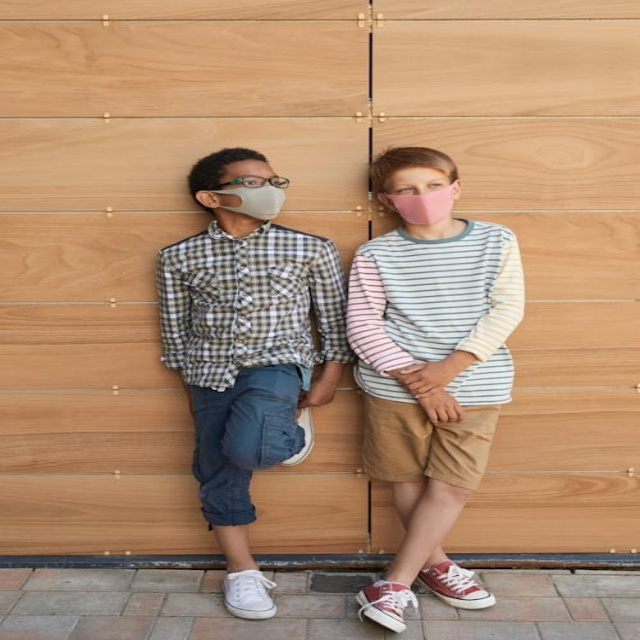Gafas: (215, 176, 290, 188)
Mascara: (380, 184, 457, 225), (207, 185, 287, 220)
Sin_gafas: (383, 176, 454, 194)
Sin_guantes: (391, 357, 469, 413)
